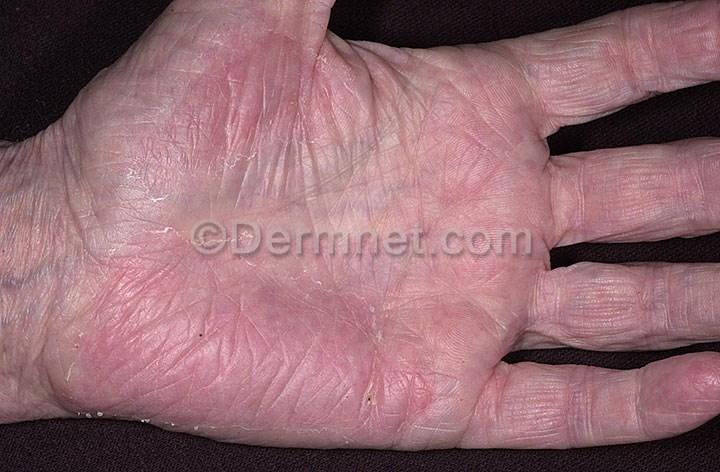Eczema: (217, 261, 467, 434), (70, 316, 208, 415), (204, 27, 318, 141), (99, 228, 193, 317), (139, 86, 209, 169), (683, 360, 720, 409)
